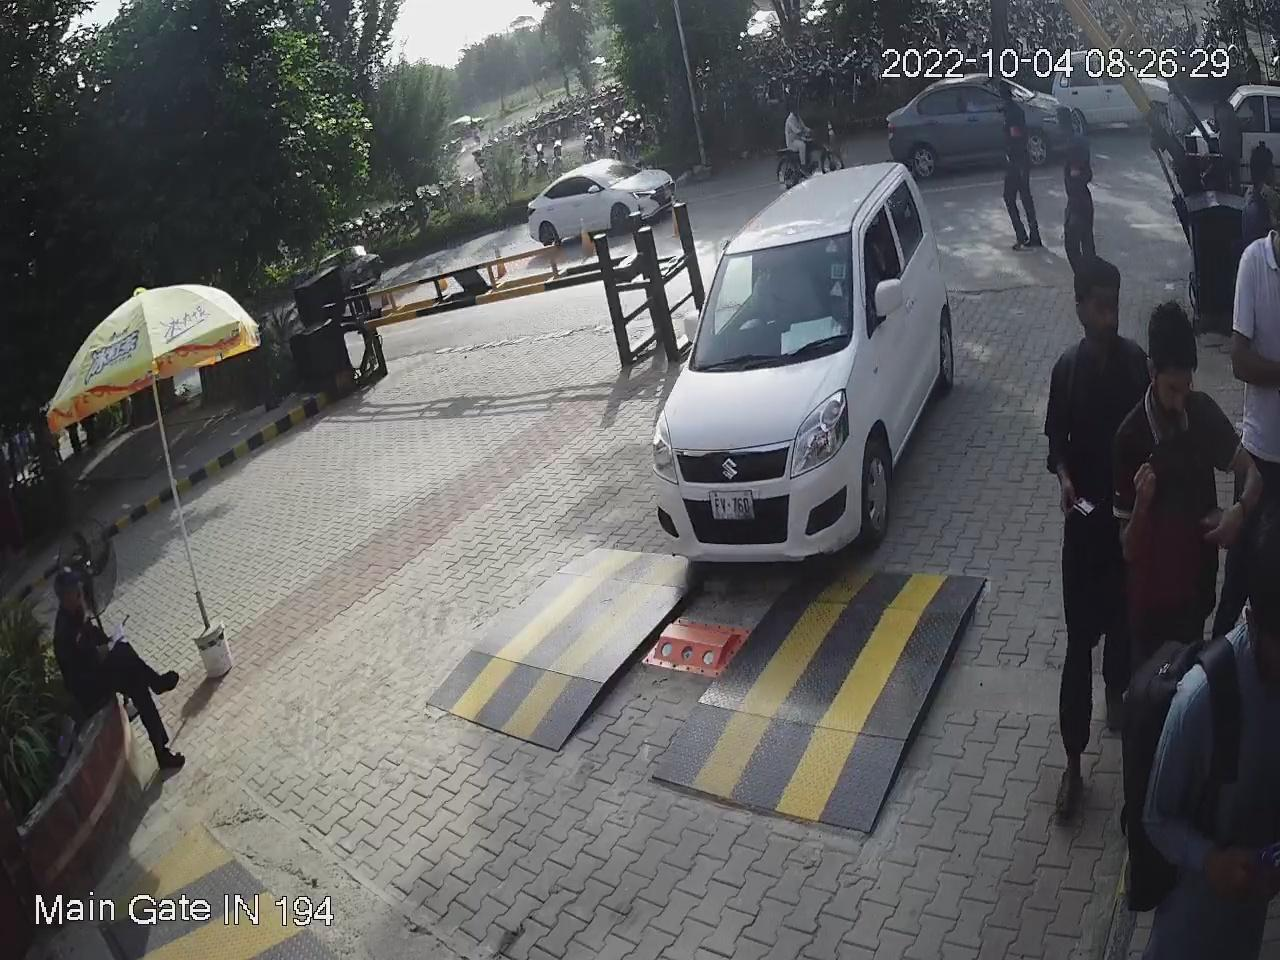windshield: (683, 235, 863, 362)
